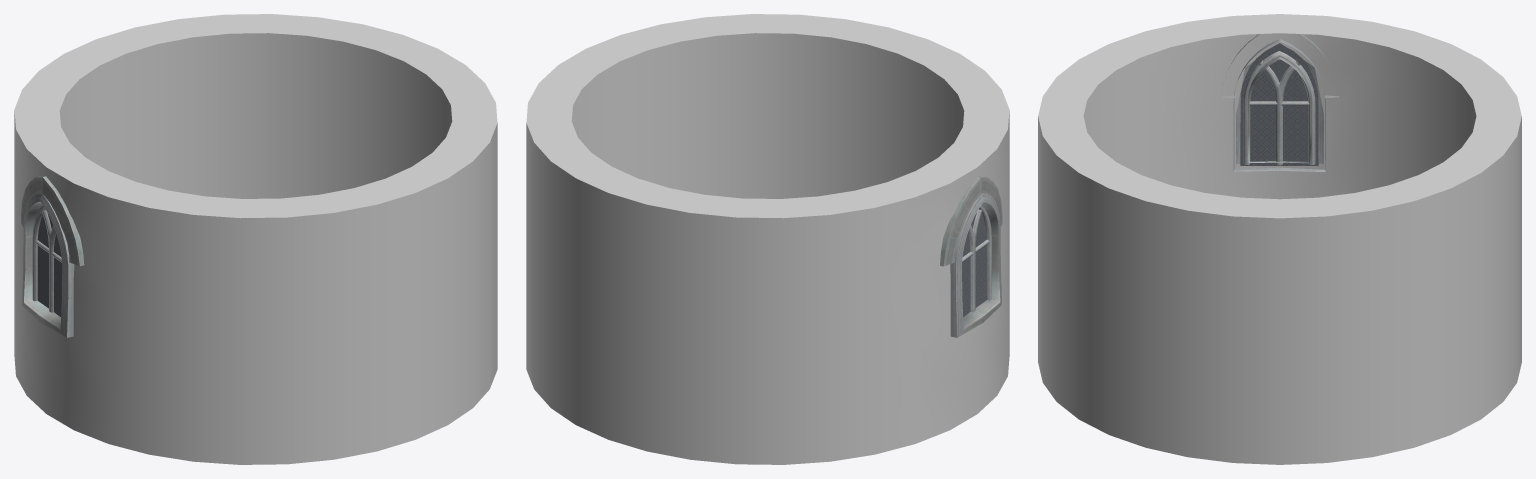
The model's file is SM_TowerA_Mid1Window_Window.fbx.
3 renders of one model, left to right at view 1: azimuth 30°, elevation 25°; view 2: azimuth 150°, elevation 25°; view 3: azimuth 270°, elevation 25°, orthographic.
Visible parts, largest first — view 1: SM_TowerA_Mid1Window_Window_LOD0; view 2: SM_TowerA_Mid1Window_Window_LOD0; view 3: SM_TowerA_Mid1Window_Window_LOD0.
Part boxes in pixels (x1=…): SM_TowerA_Mid1Window_Window_LOD0: x1=14, y1=14, x2=497, y2=464; SM_TowerA_Mid1Window_Window_LOD0: x1=526, y1=14, x2=1009, y2=464; SM_TowerA_Mid1Window_Window_LOD0: x1=1038, y1=14, x2=1521, y2=464.
Size of what is drawn, in the model's own units: 8.11 by 4.5 by 8.
